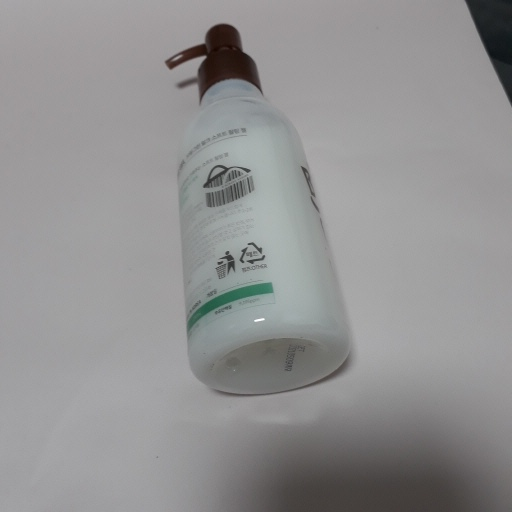Plastic_3: (158, 19, 349, 396)
